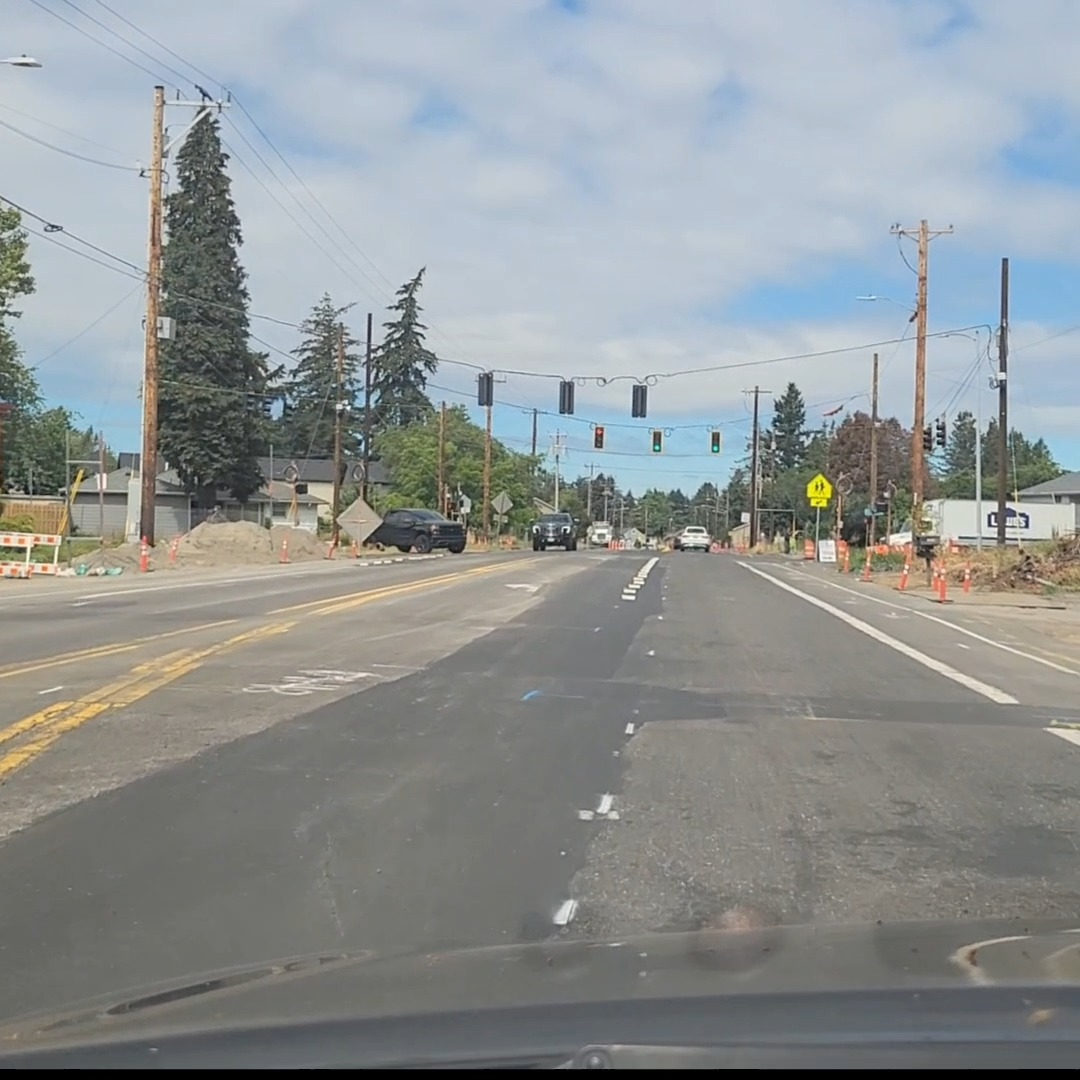car: (373, 508, 465, 553), (529, 512, 579, 550), (671, 525, 713, 551), (588, 521, 613, 547)
crosswalk-sign: (805, 473, 832, 508)
delineator: (860, 542, 875, 581), (897, 551, 910, 591), (935, 566, 948, 602), (139, 536, 150, 572), (167, 537, 179, 566), (841, 542, 851, 573), (278, 538, 290, 563), (324, 536, 337, 559), (962, 567, 971, 592), (350, 538, 359, 559)
